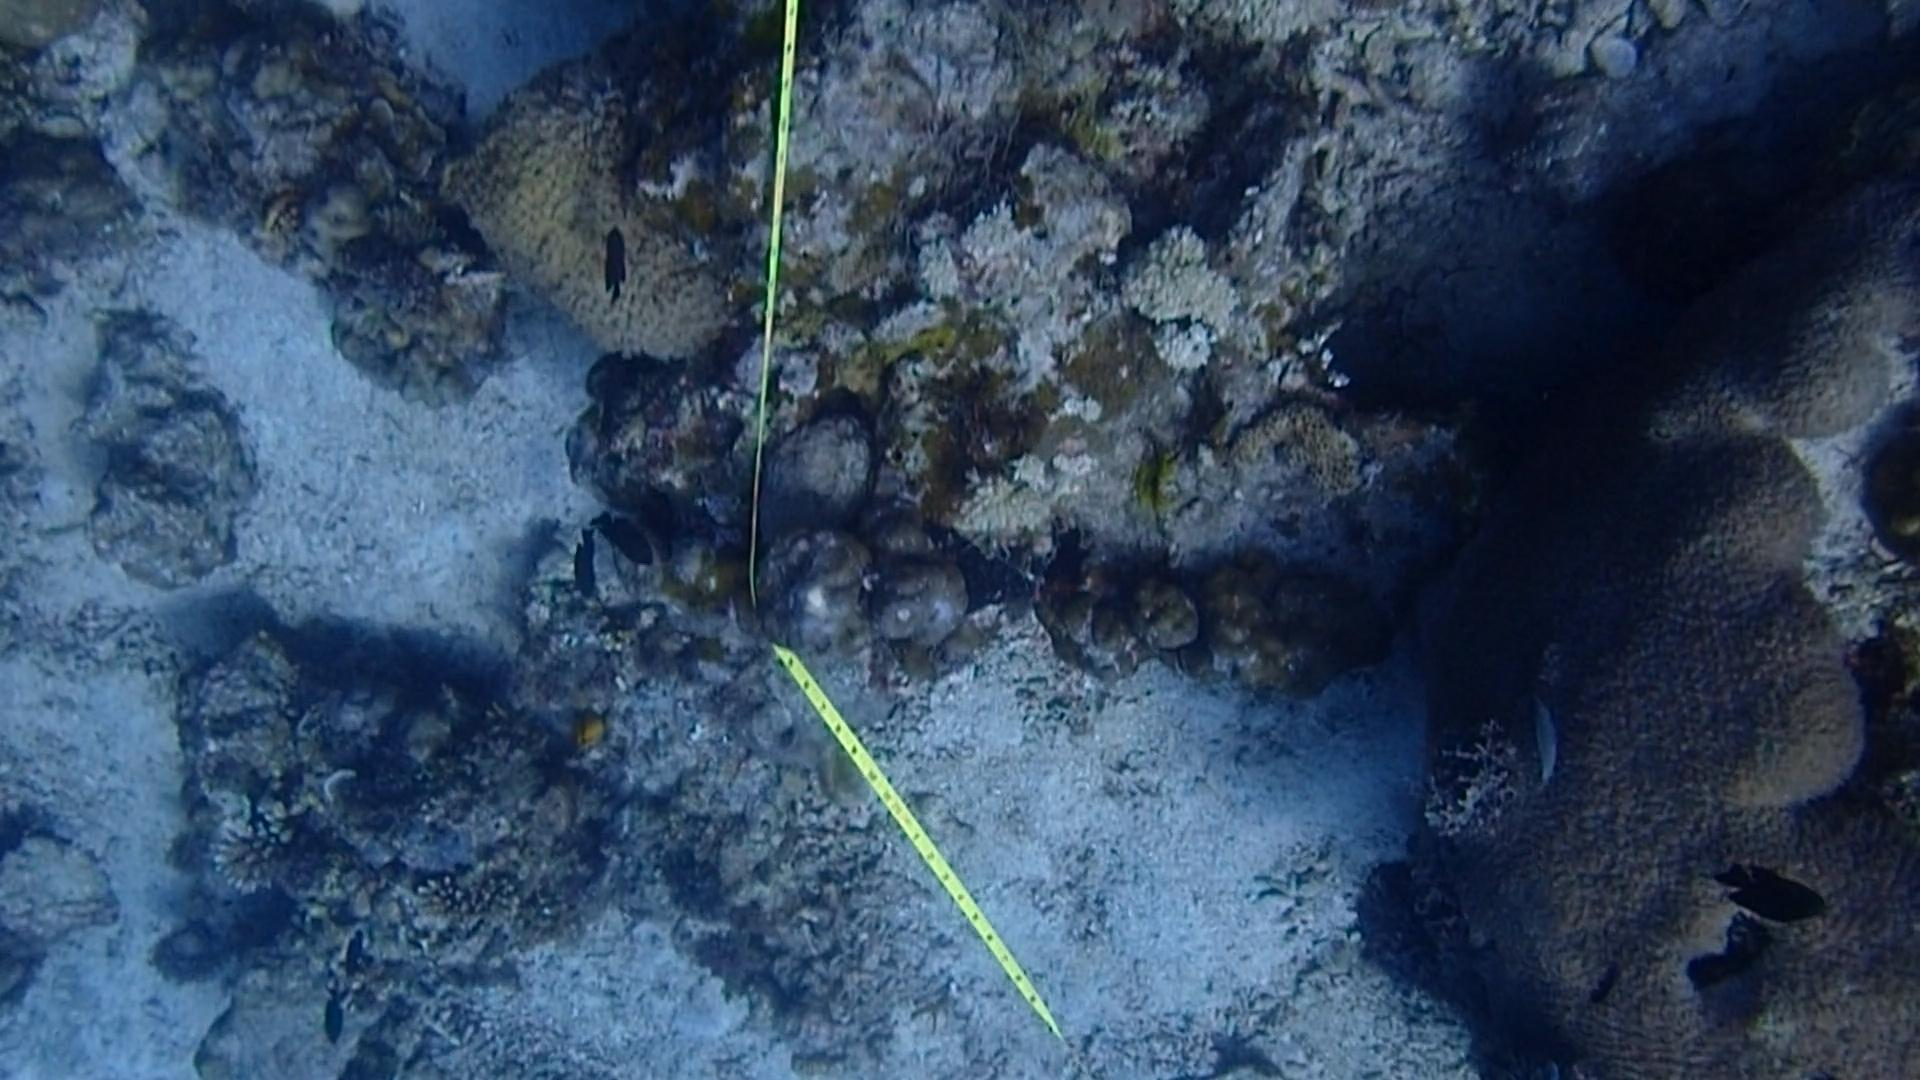Dark Fish: (1704, 849, 1842, 930), (433, 194, 502, 280), (587, 512, 663, 582), (583, 225, 642, 310), (313, 994, 361, 1069), (1580, 956, 1635, 1021), (567, 543, 617, 612), (332, 930, 381, 989)
Light Fish: (1516, 692, 1576, 789)
